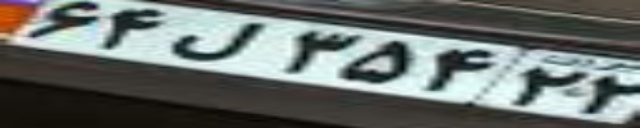2: (516, 64, 585, 109), (587, 69, 637, 118)
3: (282, 29, 356, 76)
4: (423, 45, 497, 93), (100, 9, 160, 52)
5: (342, 28, 410, 83)
6: (29, 0, 100, 40)
lam: (171, 20, 263, 61)
